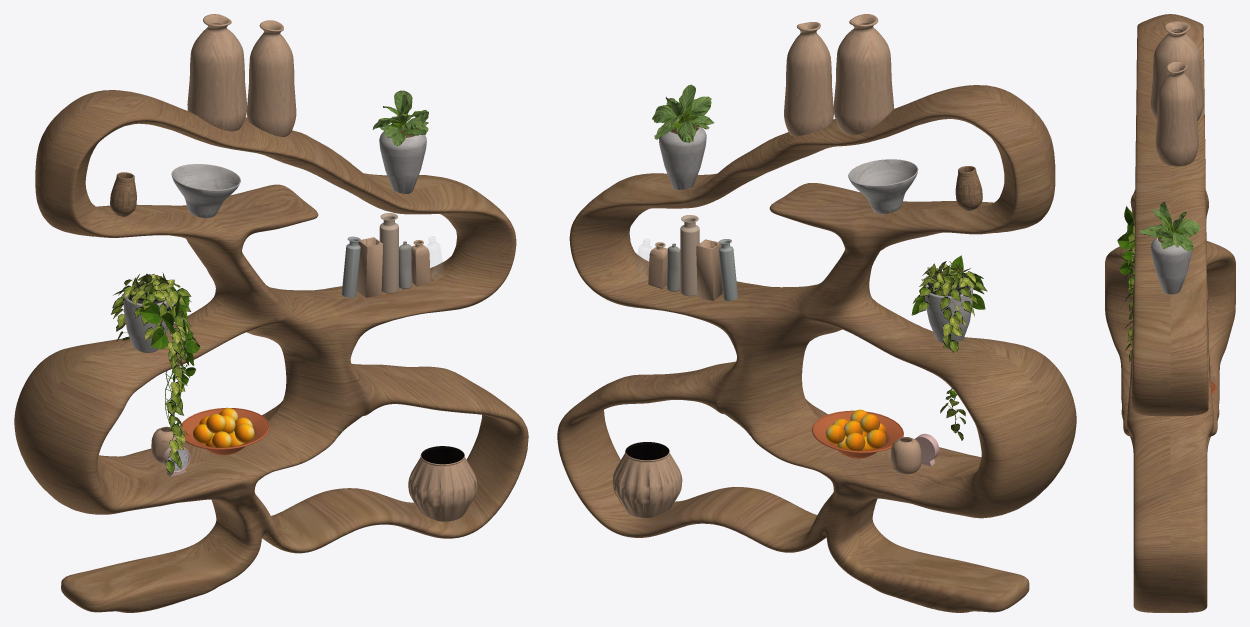
Rendered from bookcase.glb.
3 views of the same model, side by side, from view 1: azimuth 30°, elevation 25°; view 2: azimuth 150°, elevation 25°; view 3: azimuth 270°, elevation 25° (orthographic). The views are drawn at different scales.
Parts seen in each view (by area): view 1: Cube_Oakwood_0, Cylinder.002_WoodVeneer_0, Cylinder.007_PolishedQuartize_0, Cylinder.003_Bottle2_0, Plant1_leaf2_smaller_clean_0, Plant1_leaf1_smaller_clean_0, Plant1_Color_F18_0, Cylinder.001_Orange_0, Plant2_Material__7_0, Cylinder.001_Material_0, Cylinder.008_Wood2V_0; view 2: Cube_Oakwood_0, Cylinder.002_WoodVeneer_0, Cylinder.007_PolishedQuartize_0, Cylinder.003_Bottle2_0, Plant2_Material__7_0, Cylinder.001_Orange_0, Plant1_leaf2_smaller_clean_0, Cylinder.001_Material_0, Plant1_leaf1_smaller_clean_0, Cylinder.008_Wood2V_0; view 3: Cube_Oakwood_0, Cylinder.002_WoodVeneer_0, Cylinder.007_PolishedQuartize_0, Plant2_Material__7_0, Plant1_Color_F18_0, Plant1_leaf2_smaller_clean_0.
Boxes of the visible parts, bbox=[...] form: Cube_Oakwood_0: bbox=[14, 90, 528, 612]; Cylinder.002_WoodVeneer_0: bbox=[151, 14, 477, 521]; Cylinder.007_PolishedQuartize_0: bbox=[123, 129, 426, 352]; Cylinder.003_Bottle2_0: bbox=[341, 213, 412, 297]; Plant1_leaf2_smaller_clean_0: bbox=[111, 274, 191, 474]; Plant1_leaf1_smaller_clean_0: bbox=[113, 272, 188, 459]; Plant1_Color_F18_0: bbox=[139, 283, 200, 425]; Cylinder.001_Orange_0: bbox=[193, 408, 254, 447]; Plant2_Material__7_0: bbox=[372, 90, 428, 146]; Cylinder.001_Material_0: bbox=[180, 407, 269, 455]; Cylinder.008_Wood2V_0: bbox=[110, 172, 136, 216]; Cube_Oakwood_0: bbox=[557, 85, 1076, 612]; Cylinder.002_WoodVeneer_0: bbox=[612, 14, 921, 518]; Cylinder.007_PolishedQuartize_0: bbox=[659, 126, 973, 342]; Cylinder.003_Bottle2_0: bbox=[667, 215, 737, 300]; Plant2_Material__7_0: bbox=[652, 84, 714, 142]; Cylinder.001_Orange_0: bbox=[825, 409, 886, 450]; Plant1_leaf2_smaller_clean_0: bbox=[913, 261, 987, 440]; Cylinder.001_Material_0: bbox=[812, 410, 903, 458]; Plant1_leaf1_smaller_clean_0: bbox=[919, 261, 975, 432]; Cylinder.008_Wood2V_0: bbox=[955, 166, 982, 210]; Cube_Oakwood_0: bbox=[1105, 14, 1235, 612]; Cylinder.002_WoodVeneer_0: bbox=[1150, 21, 1203, 166]; Cylinder.007_PolishedQuartize_0: bbox=[1151, 234, 1192, 294]; Plant2_Material__7_0: bbox=[1139, 201, 1200, 251]; Plant1_Color_F18_0: bbox=[1117, 206, 1134, 297]; Plant1_leaf2_smaller_clean_0: bbox=[1124, 219, 1134, 361].
Size of the model in its own units: 2.22 by 2.48 by 0.6015.
17 materials, 17 textured.
